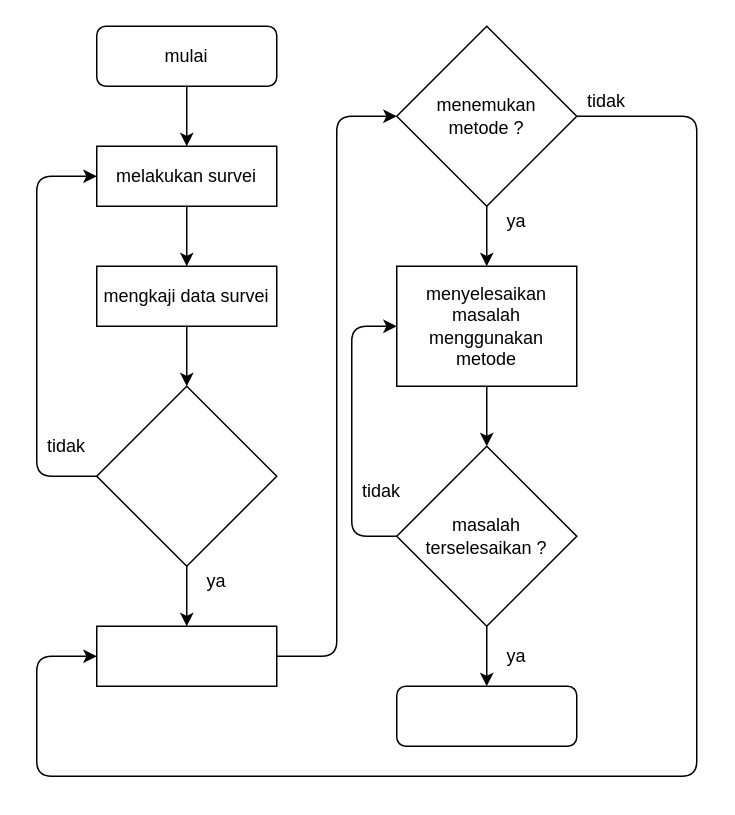
Image size: 735x815. Some labels were removed from this diagram. The shapes that lost their labels are listed below. From the top down, each one's box as (x1, y1, x2, y2) in pixels, then its label:
(95, 385, 277, 566): terdapat masalah ?
(95, 625, 277, 686): mencari metode untuk menyelesaikan masalah
(395, 685, 577, 746): selesai
